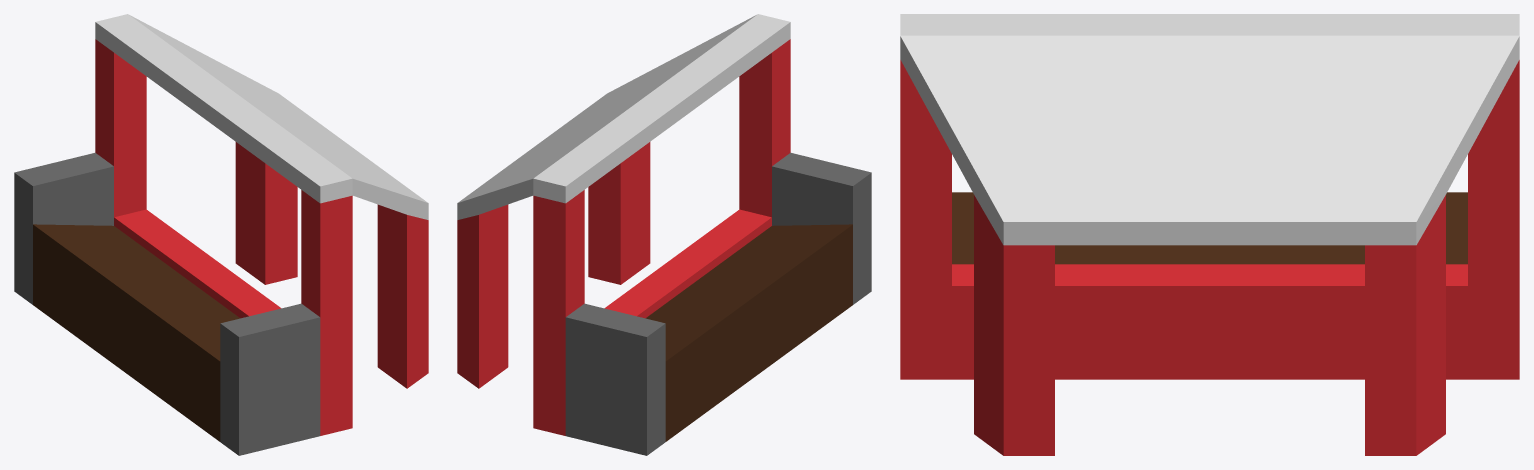
The model's file is DepotObj.fbx.
3 views of the same model, side by side, from view 1: azimuth 30°, elevation 25°; view 2: azimuth 150°, elevation 25°; view 3: azimuth 270°, elevation 25° (orthographic). The views are drawn at different scales.
Parts seen in each view (by area): view 1: Depot; view 2: Depot; view 3: Depot.
Boxes of the visible parts, x1,y1,x2,y2 form: Depot: (14, 14, 428, 455); Depot: (457, 14, 871, 455); Depot: (900, 14, 1519, 455).
Bounding box in the file's own units: 1400 × 1470 × 2400.
